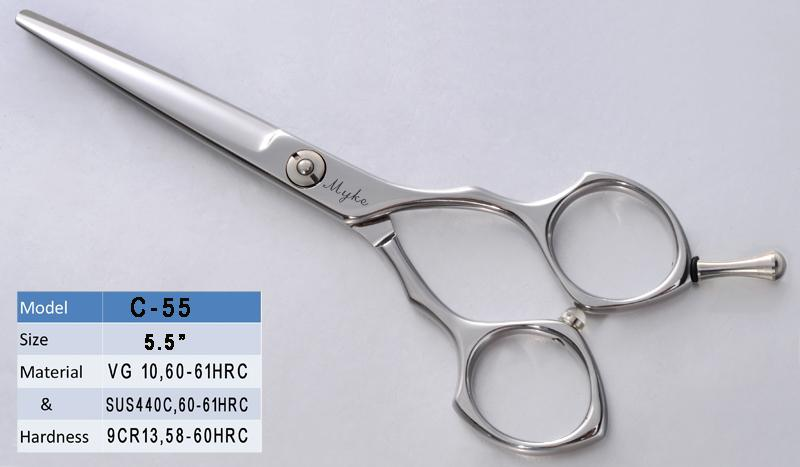scissor: (12, 10, 721, 429)
